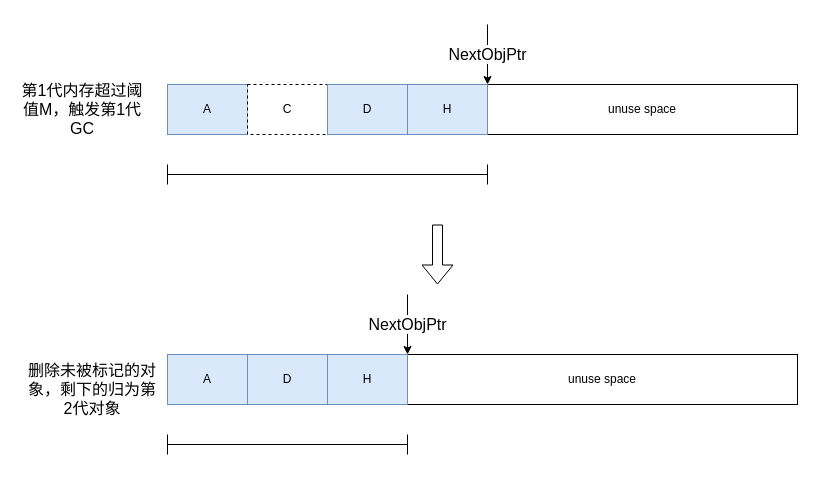
Image size: 815x498. Some labels were removed from this diagram. Each missing label, with the centre of its shape:
第1代: point (327, 174)
第2代: point (287, 444)
